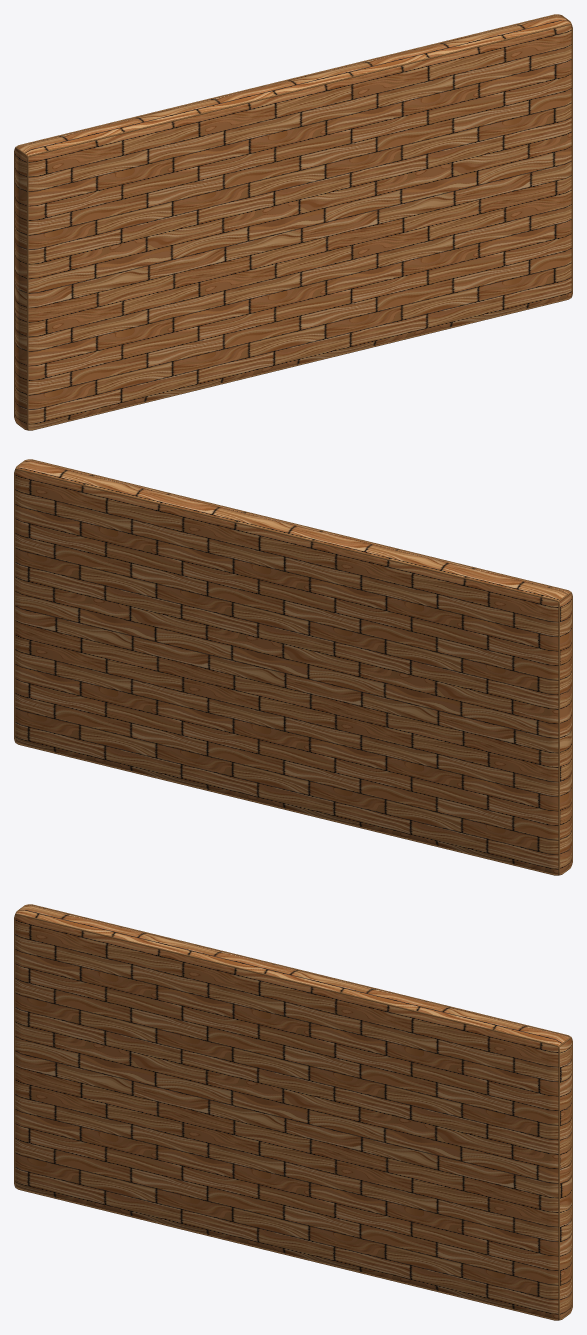
File: SM_SoftFoam_Wall_20_2x4M.fbx
3 renders of one model, top to bottom at view 1: azimuth 30°, elevation 25°; view 2: azimuth 150°, elevation 25°; view 3: azimuth 330°, elevation 25°, orthographic.
Parts seen in each view (by area): view 1: SM_SoftFoam_Wall_20_2x4; view 2: SM_SoftFoam_Wall_20_2x4; view 3: SM_SoftFoam_Wall_20_2x4.
Part boxes in pixels (left/top/right/bottom): SM_SoftFoam_Wall_20_2x4: left=14, top=14, right=572, bottom=430; SM_SoftFoam_Wall_20_2x4: left=14, top=459, right=572, bottom=875; SM_SoftFoam_Wall_20_2x4: left=14, top=904, right=572, bottom=1320.
Bounding box in the file's own units: 390 × 190 × 20.
